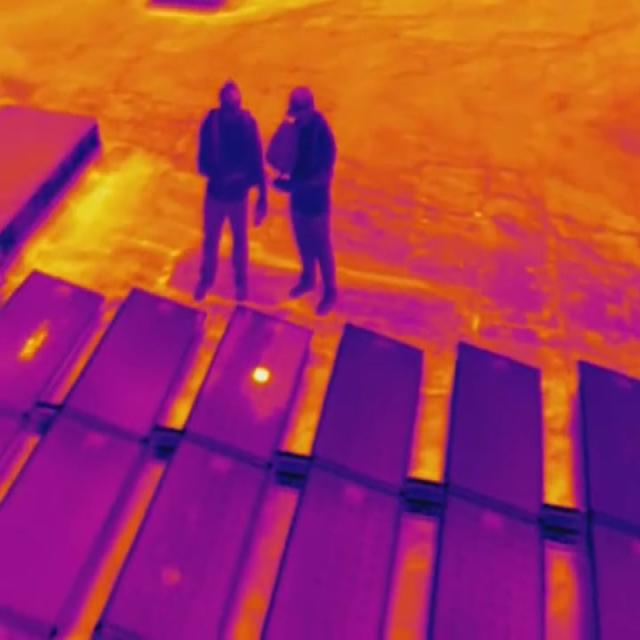Orange-Spots: (20, 322, 49, 362), (160, 560, 181, 586), (251, 359, 271, 385)
